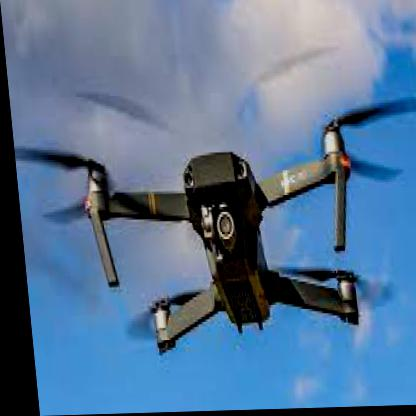UAS: (41, 108, 397, 358)
